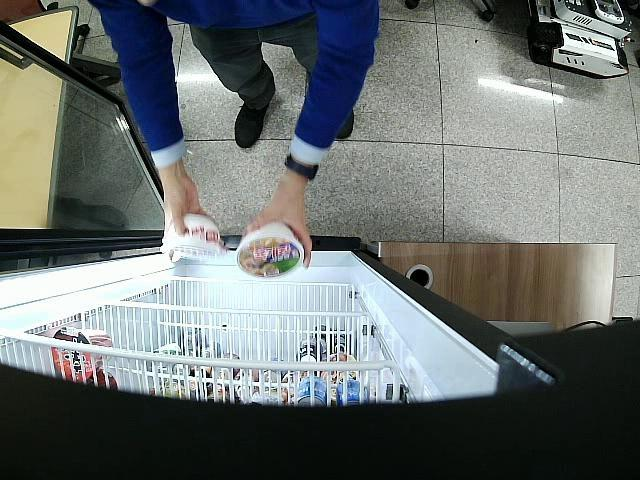09_yukGaeJang: (234, 220, 305, 278), (162, 210, 224, 260)
